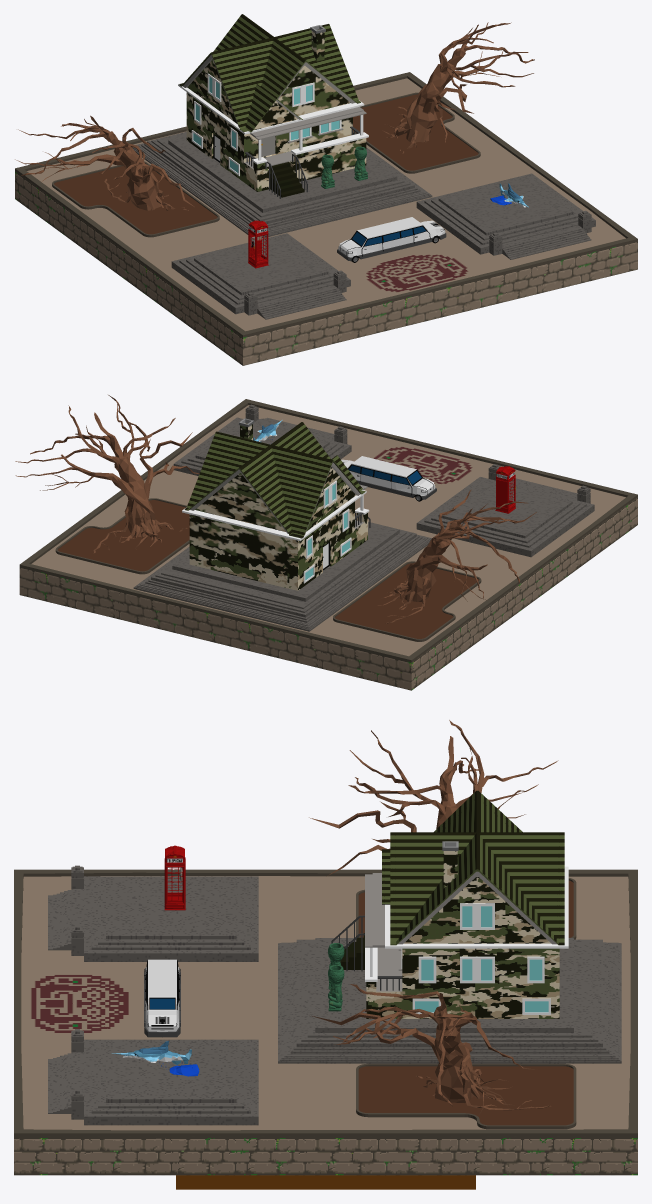
The picture shows the model from 3 angles, top to bottom: view 1: azimuth 30°, elevation 25°; view 2: azimuth 150°, elevation 25°; view 3: azimuth 270°, elevation 25°; orthographic projection. The views are drawn at different scales.
Parts seen in each view (by area): view 1: Cube.011, Cube.002, VEHICLES_LIMOUSINE, OBJRANDOM_PHONEBOOTH; view 2: Cube.011, Cube.002, VEHICLES_LIMOUSINE, OBJRANDOM_PHONEBOOTH; view 3: Cube.011, Cube.002, UNDERGROUND_ART_PIECE_VAN_GOGH, VEHICLES_LIMOUSINE, OBJRANDOM_PHONEBOOTH, ANIMAL_PEZ_ESPADA.
Part boxes in pixels (x1,y1,x2,y2): Cube.011: (15,22,637,365); Cube.002: (178,14,368,198); VEHICLES_LIMOUSINE: (337,217,446,262); OBJRANDOM_PHONEBOOTH: (248,220,268,268); Cube.011: (15,395,637,690); Cube.002: (182,418,370,590); VEHICLES_LIMOUSINE: (341,456,436,501); OBJRANDOM_PHONEBOOTH: (495,466,515,513); Cube.011: (14,720,637,1175); Cube.002: (331,790,568,1018); UNDERGROUND_ART_PIECE_VAN_GOGH: (176,1175,475,1189); VEHICLES_LIMOUSINE: (144,959,180,1037); OBJRANDOM_PHONEBOOTH: (164,845,185,910); ANIMAL_PEZ_ESPADA: (111,1041,199,1076).
Size of the model in its own units: 5099 by 1789 by 4000.
43 materials, 8 textured.
